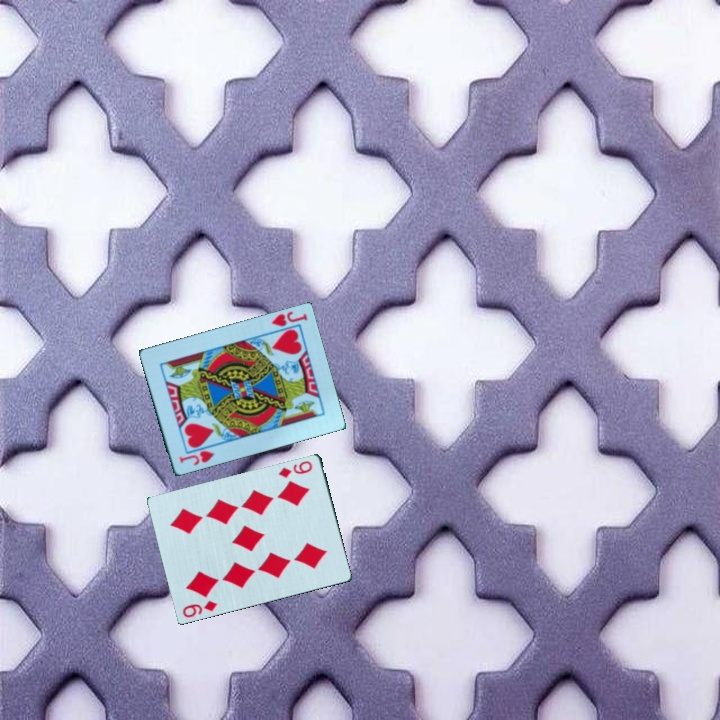9d: (179, 596, 220, 620), (275, 457, 315, 481)
Jh: (267, 308, 310, 330), (175, 447, 217, 469)
